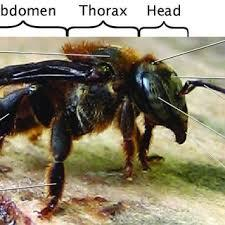Meliponula: (0, 38, 207, 187)
